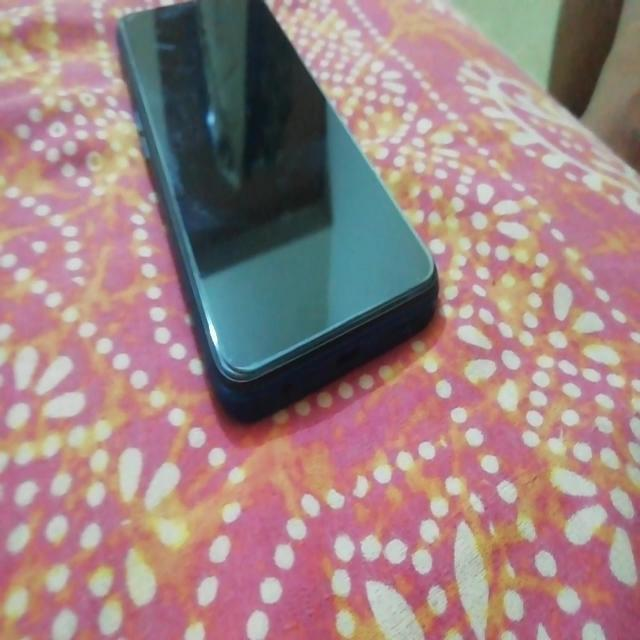Phone: (110, 3, 445, 425)
